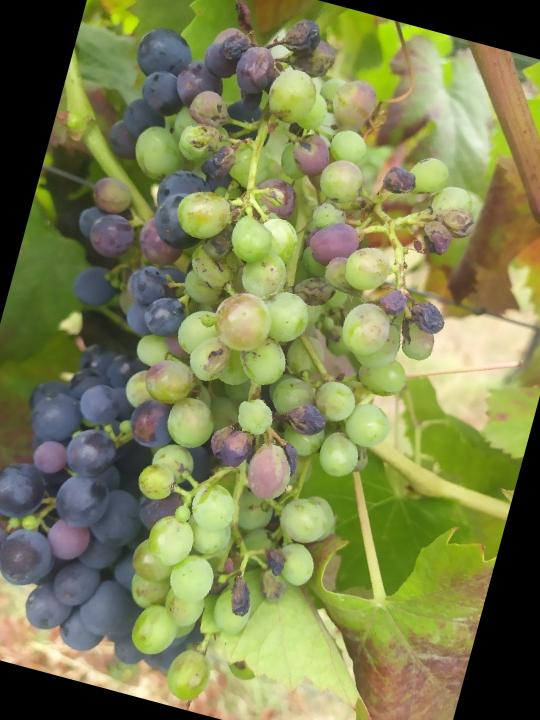grape: (0, 0, 523, 720)
